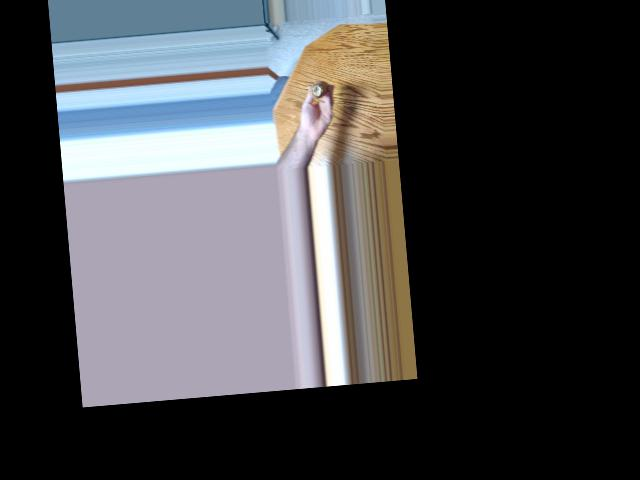sweet_potato: (307, 77, 324, 98)
